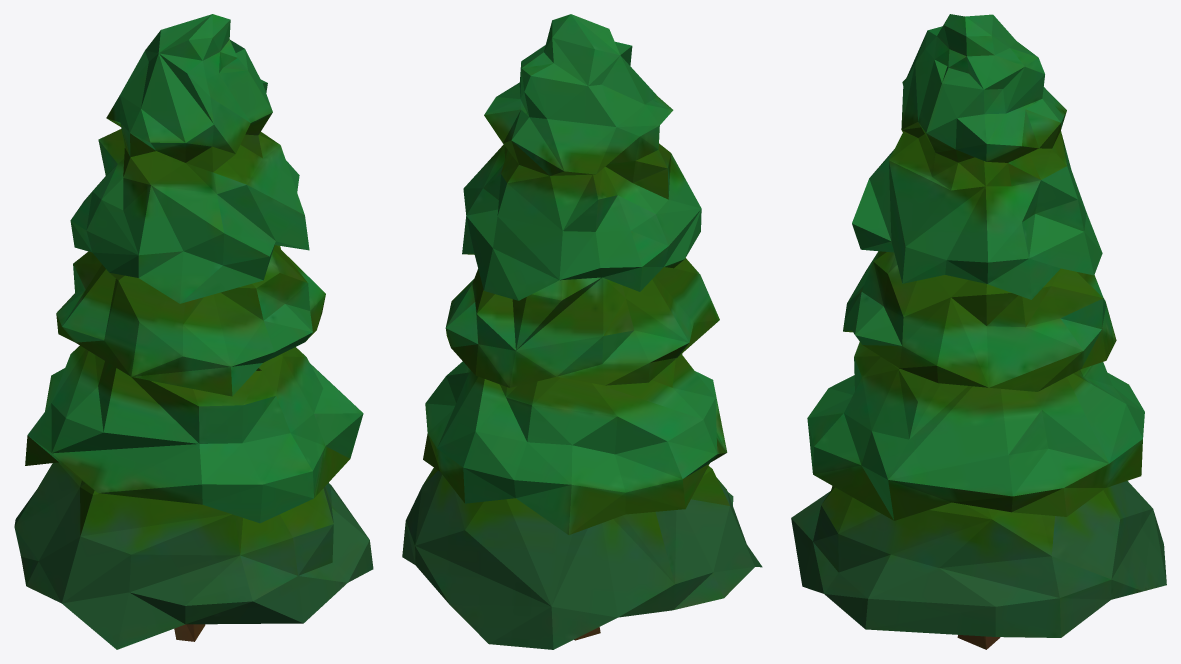
Rendered from tree_01.glb.
The picture shows the model from 3 angles, left to right: view 1: azimuth 30°, elevation 25°; view 2: azimuth 150°, elevation 25°; view 3: azimuth 270°, elevation 25°; orthographic projection. The views are drawn at different scales.
Visible parts, largest first — view 1: _1_tree__1_tree_0; view 2: _1_tree__1_tree_0; view 3: _1_tree__1_tree_0.
Boxes of the visible parts, left/top/right/bottom form: _1_tree__1_tree_0: left=14, top=14, right=373, bottom=649; _1_tree__1_tree_0: left=402, top=14, right=762, bottom=649; _1_tree__1_tree_0: left=791, top=14, right=1166, bottom=649.
Size of the model in its own units: 5.69 by 11 by 5.93.
1 material, 1 textured.
